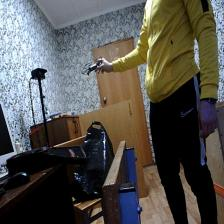drone: (82, 55, 106, 79)
